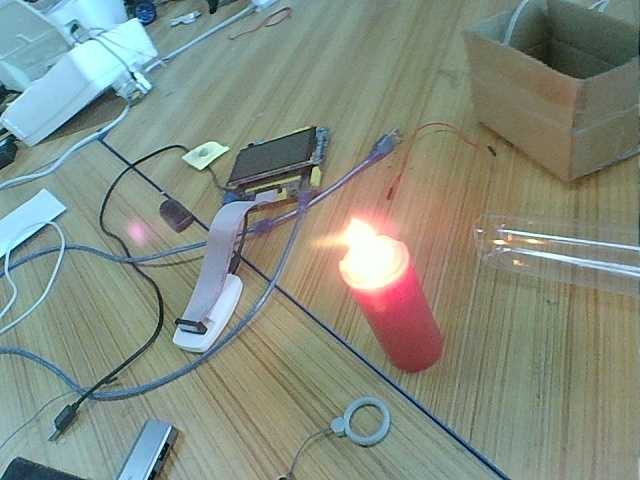candle: (338, 278, 454, 377)
fire: (332, 216, 400, 274)
